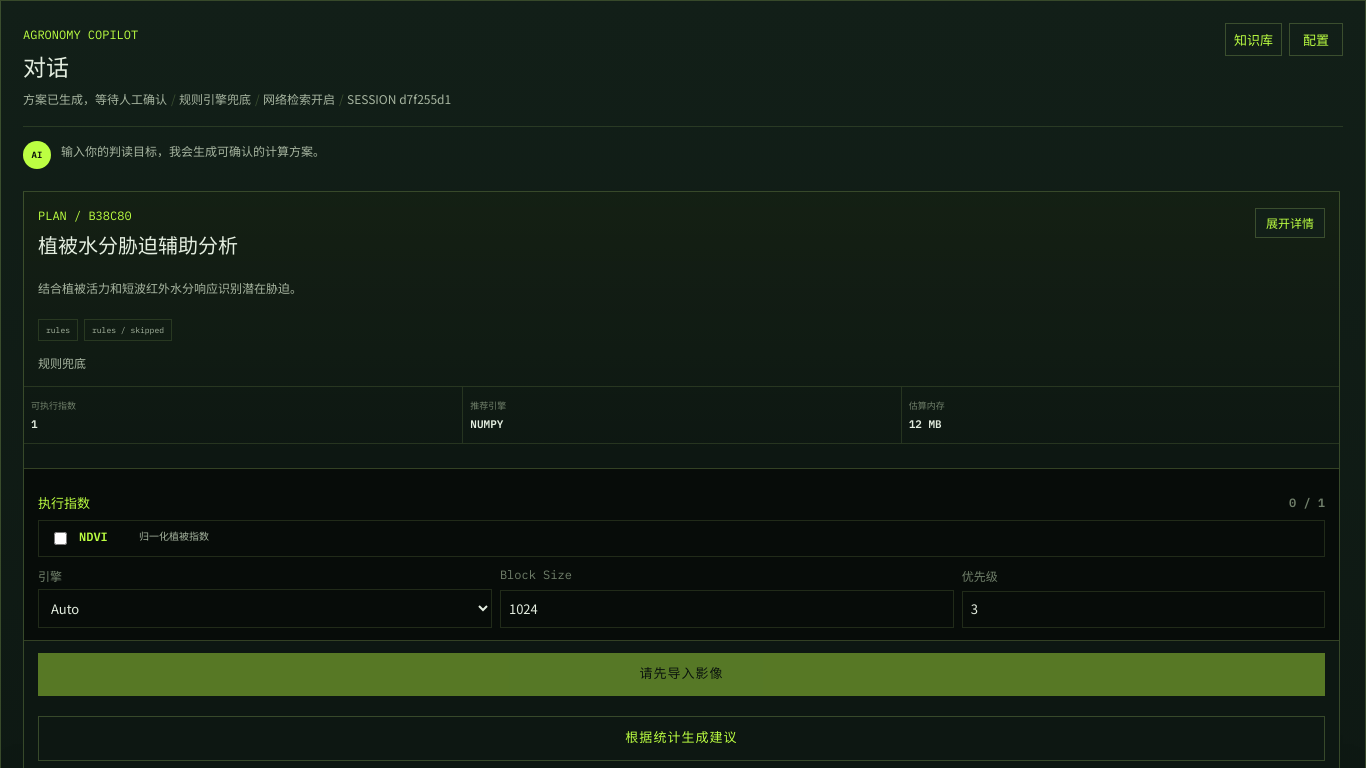
AgentDrawer 判读结果渲染 › 把字符串 nextActions 渲染为一条完整建议，避免逐字撑开判读卡
Click the button with class "secondary-button": [682, 738] box [38,716,1325,761]
(page scrolled)
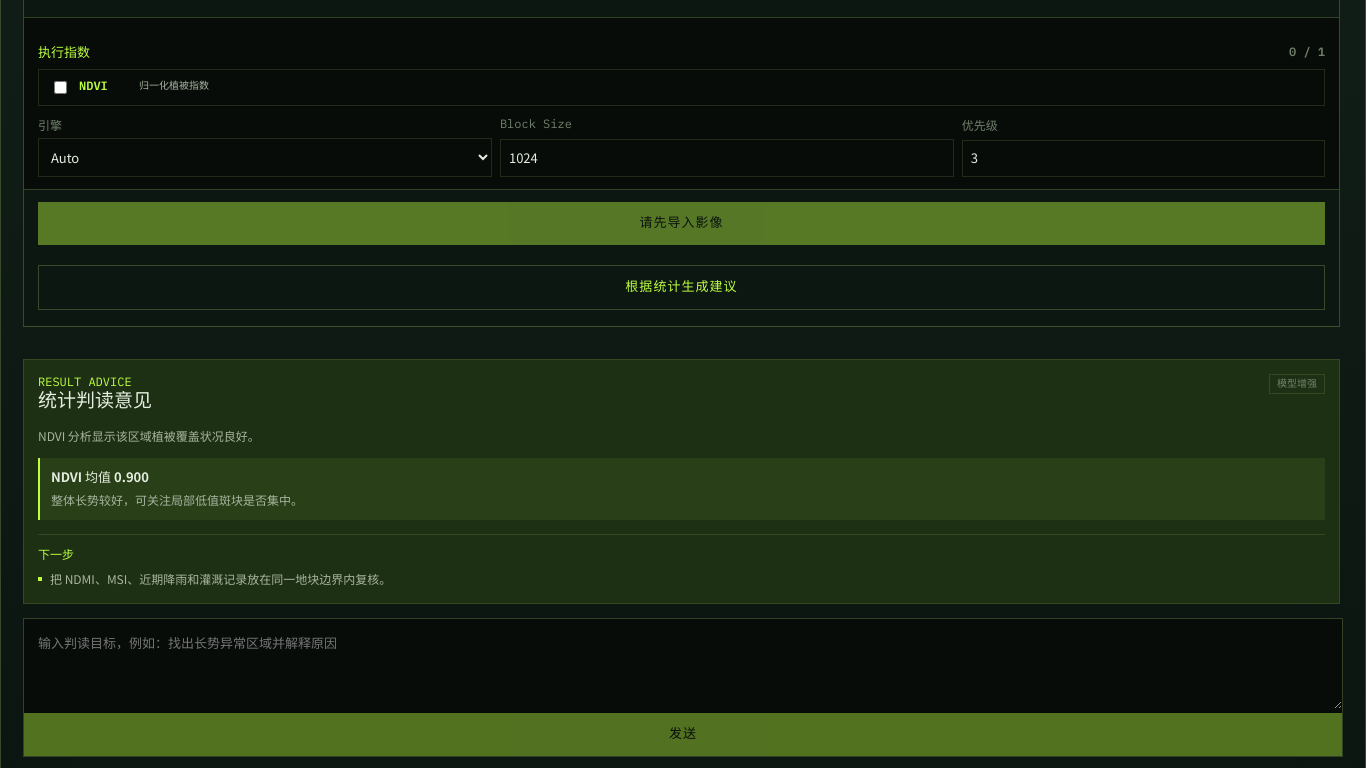
Check: the text "把 NDMI、MSI、近期降雨和灌溉记录放在同一地块边界内复核。" is shown, box [50,570,391,587]
Check: the text "模型增强" is shown, box [1269,374,1325,394]
